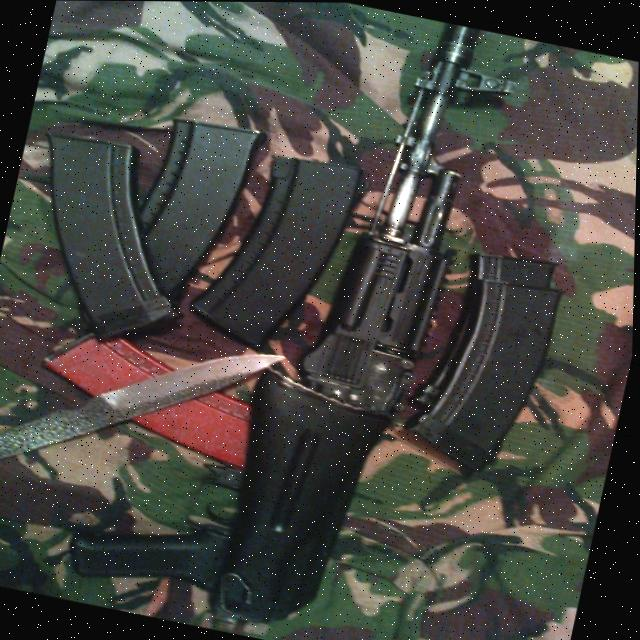firearm: (68, 0, 529, 640)
knife: (0, 294, 291, 524)
